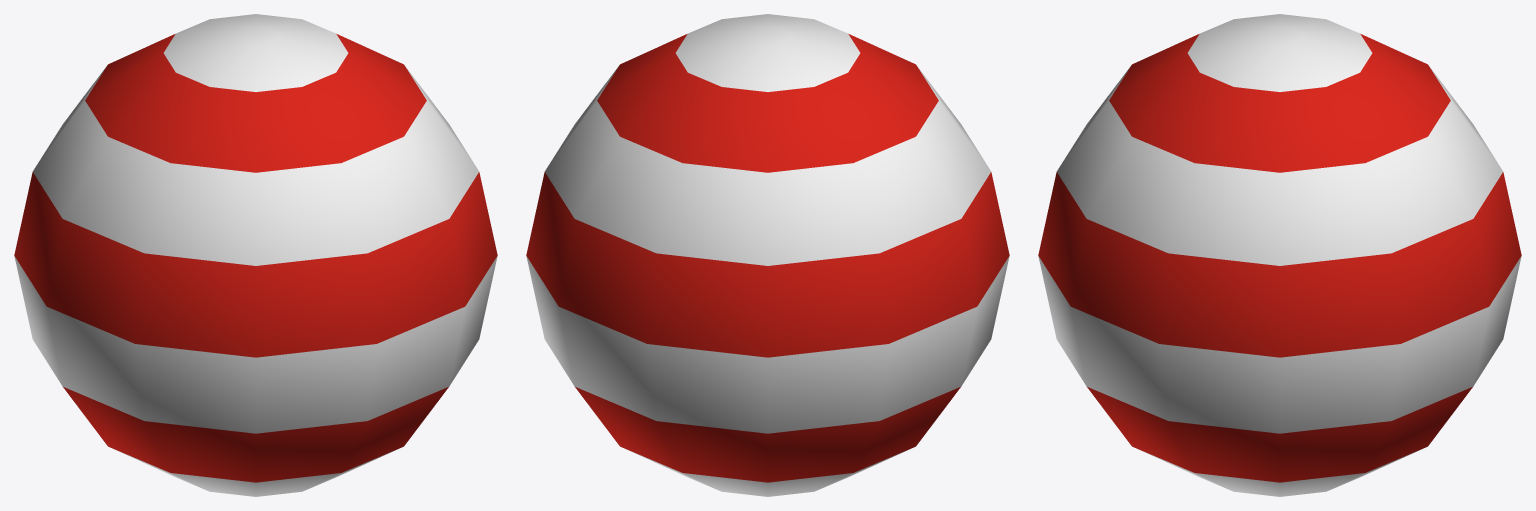
The model's file is SimpleBall.fbx.
3 views of the same model, side by side, from view 1: azimuth 30°, elevation 25°; view 2: azimuth 150°, elevation 25°; view 3: azimuth 270°, elevation 25° (orthographic).
Visible parts, largest first — view 1: Ball; view 2: Ball; view 3: Ball.
Boxes of the visible parts, left/top/right/bottom form: Ball: left=14, top=14, right=497, bottom=496; Ball: left=526, top=14, right=1009, bottom=496; Ball: left=1038, top=14, right=1521, bottom=496.
Bounding box in the file's own units: 39.38 × 39.39 × 39.38.
